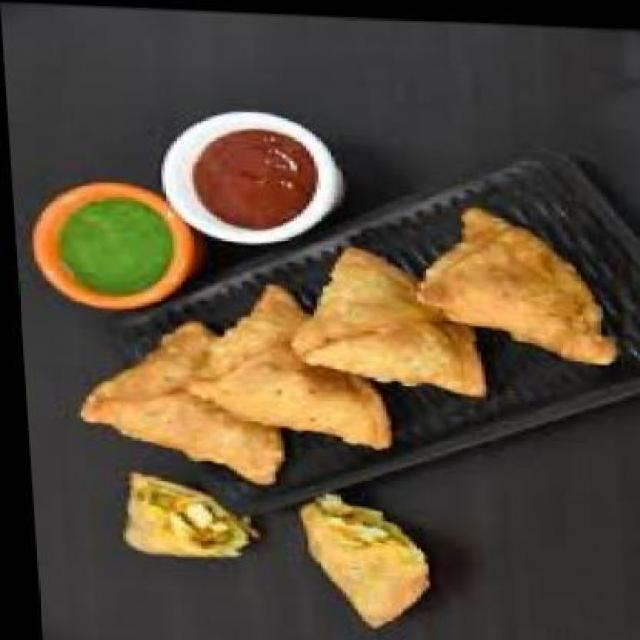samosa: (70, 314, 278, 483), (175, 277, 383, 445), (410, 200, 612, 355), (283, 243, 479, 389)
